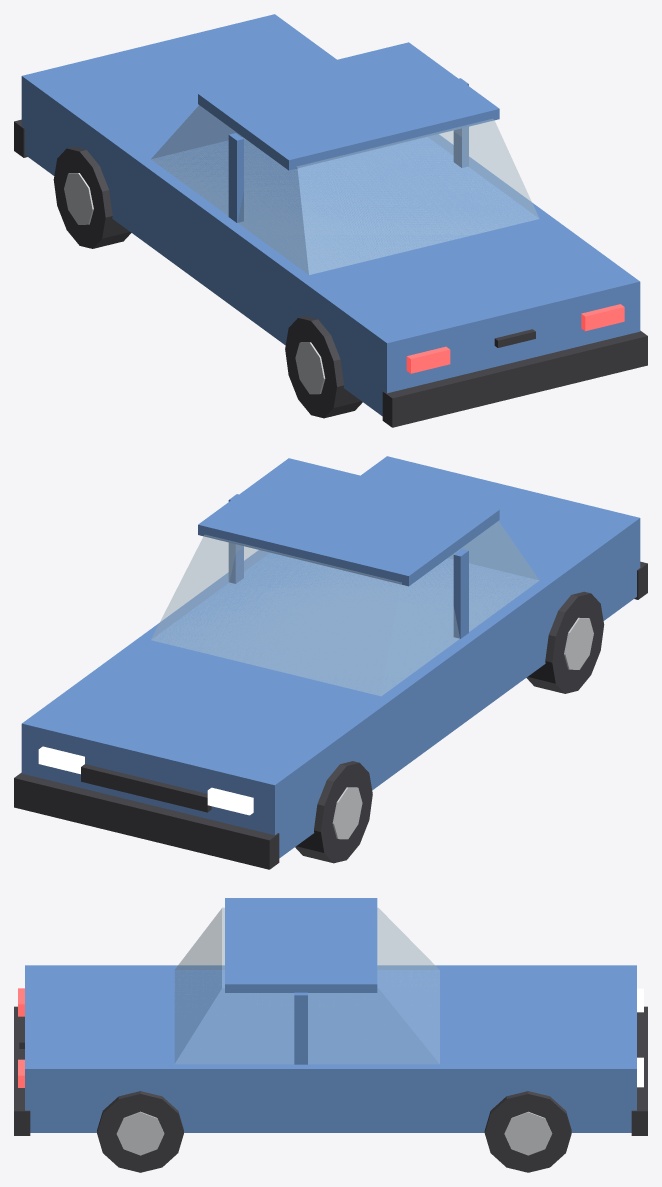
File: car_sedan_blue.glb
The picture shows the model from 3 angles, top to bottom: view 1: azimuth 30°, elevation 25°; view 2: azimuth 150°, elevation 25°; view 3: azimuth 270°, elevation 25°; orthographic projection. The views are drawn at different scales.
Visible parts, largest first — view 1: body, wheel_fl, wheel_rl; view 2: body, wheel_rl, wheel_fl; view 3: body, wheel_fr, wheel_rr.
Part boxes in pixels (bbox=[...]): body: bbox=[14, 14, 647, 427]; wheel_fl: bbox=[53, 146, 131, 248]; wheel_rl: bbox=[285, 316, 362, 418]; body: bbox=[14, 456, 647, 869]; wheel_rl: bbox=[526, 591, 604, 693]; wheel_fl: bbox=[295, 761, 372, 863]; body: bbox=[14, 898, 647, 1135]; wheel_fr: bbox=[484, 1091, 571, 1172]; wheel_rr: bbox=[97, 1091, 183, 1172].
Size of the model in its own units: 1.92 by 1.43 by 4.66.
